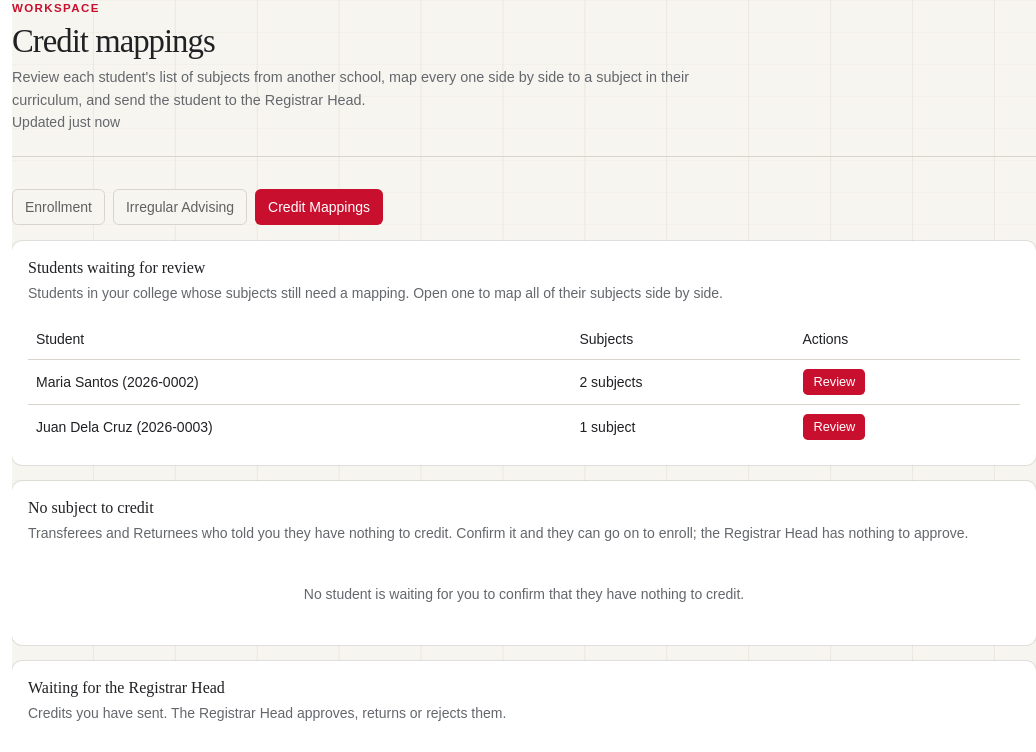
ProgramChairCreditMappingsWorkspace › sends a student to the Registrar Head, tells the chair how many were sent, and closes the screen
Step 1. Click the button with aria-label "Review Maria Santos" → (834, 382), box [802,368,866,396]
(page scrolled)
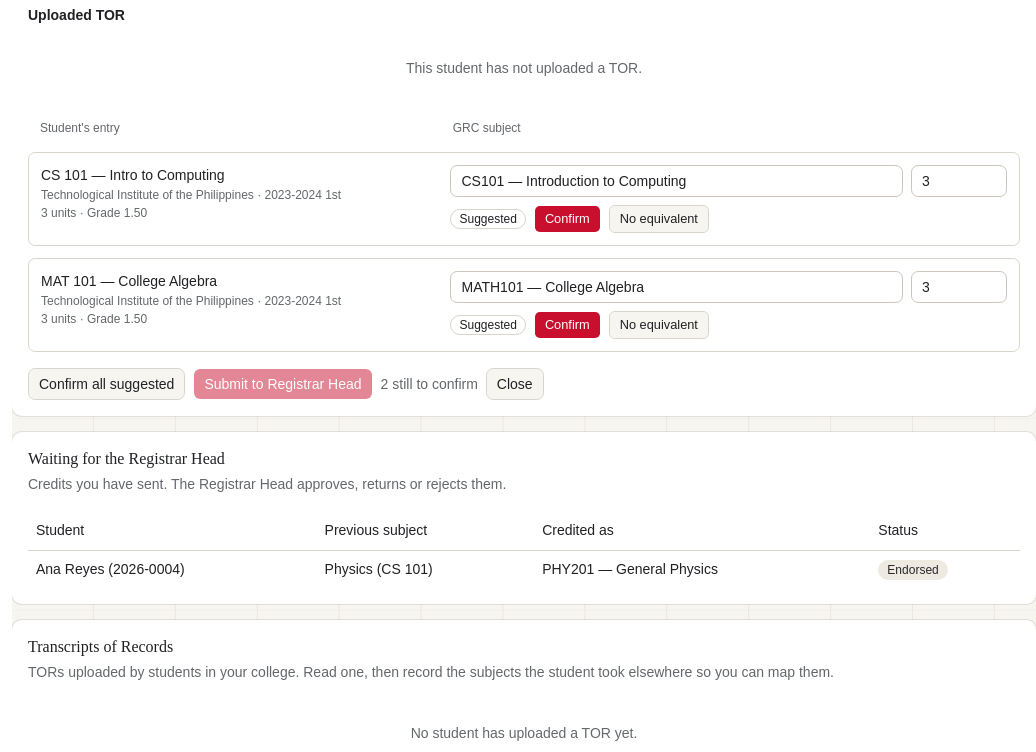
Expected: the button "Confirm all suggested" is enabled
Step 2. Click the button "Confirm all suggested" → (107, 384), box [28,368,185,400]
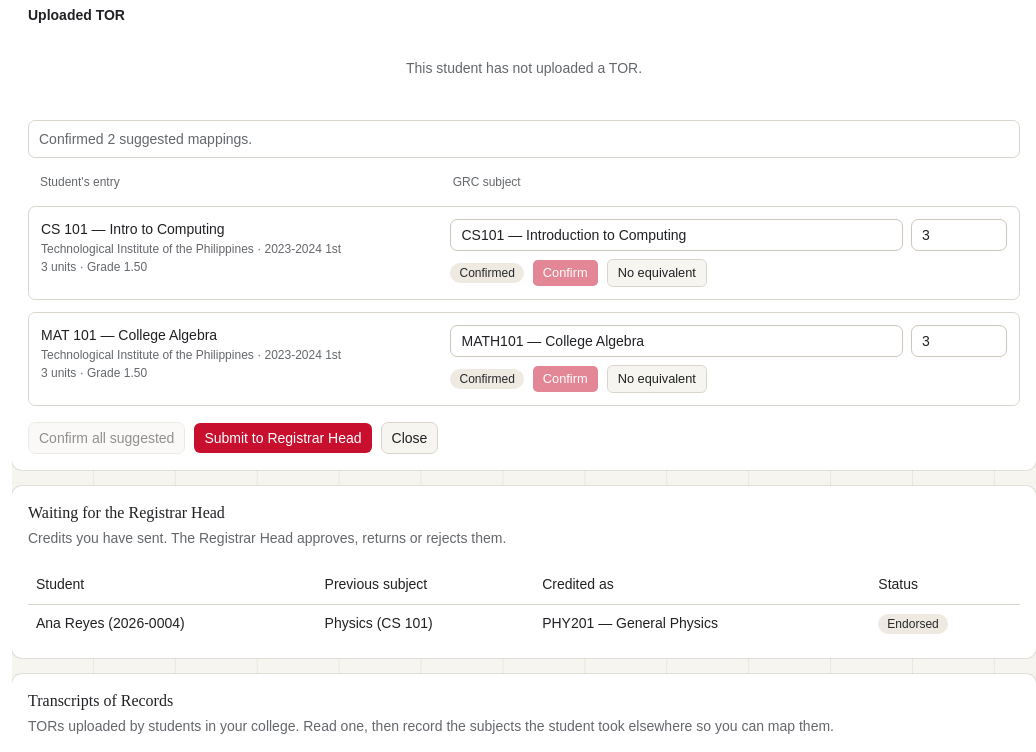
Expected: the button "Submit to Registrar Head" is enabled
Step 3. Click the button "Submit to Registrar Head" → (283, 438), box [193,422,373,454]
(page scrolled)
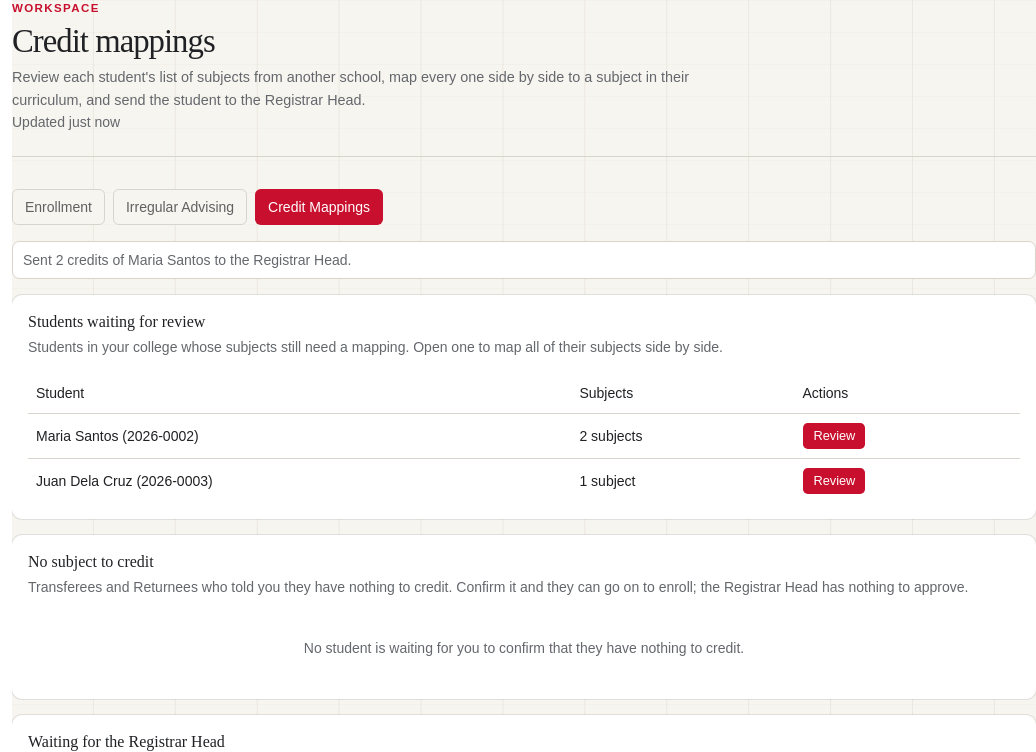
Expected: the text "Sent 2 credits of Maria Santos to the Registrar Head." is shown, [23,252,351,268]
